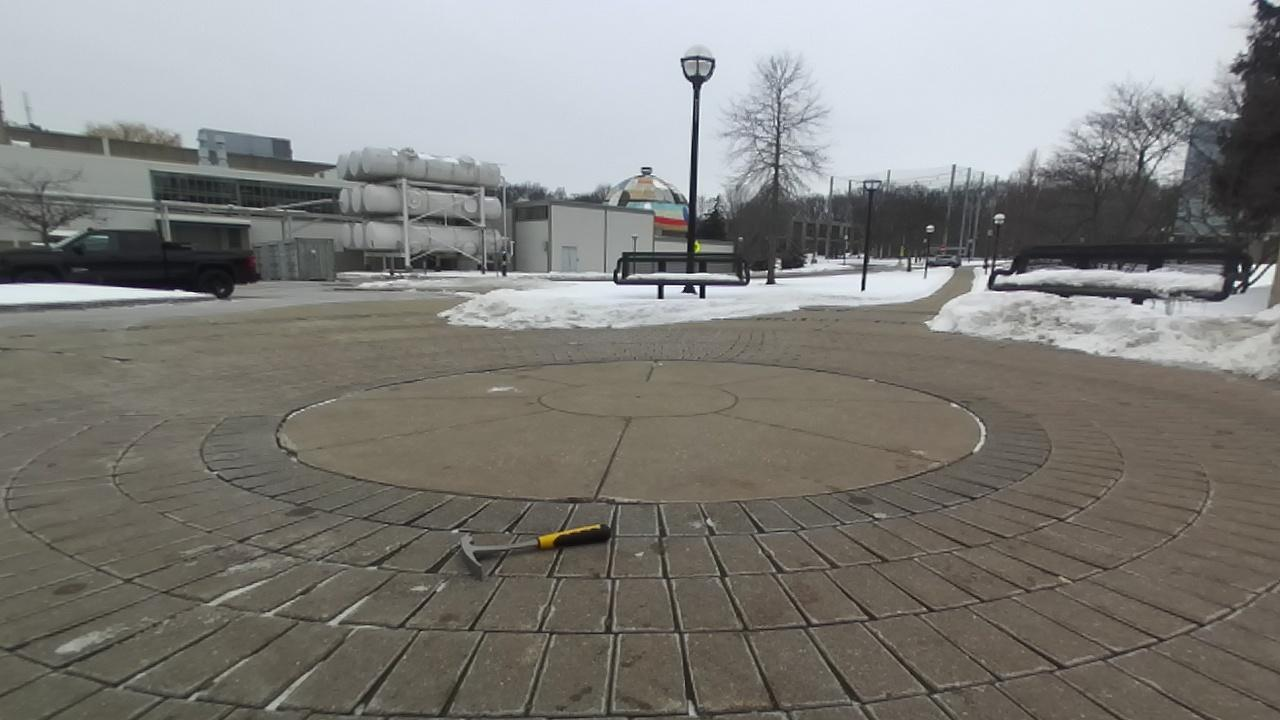pick: (460, 524, 611, 579)
